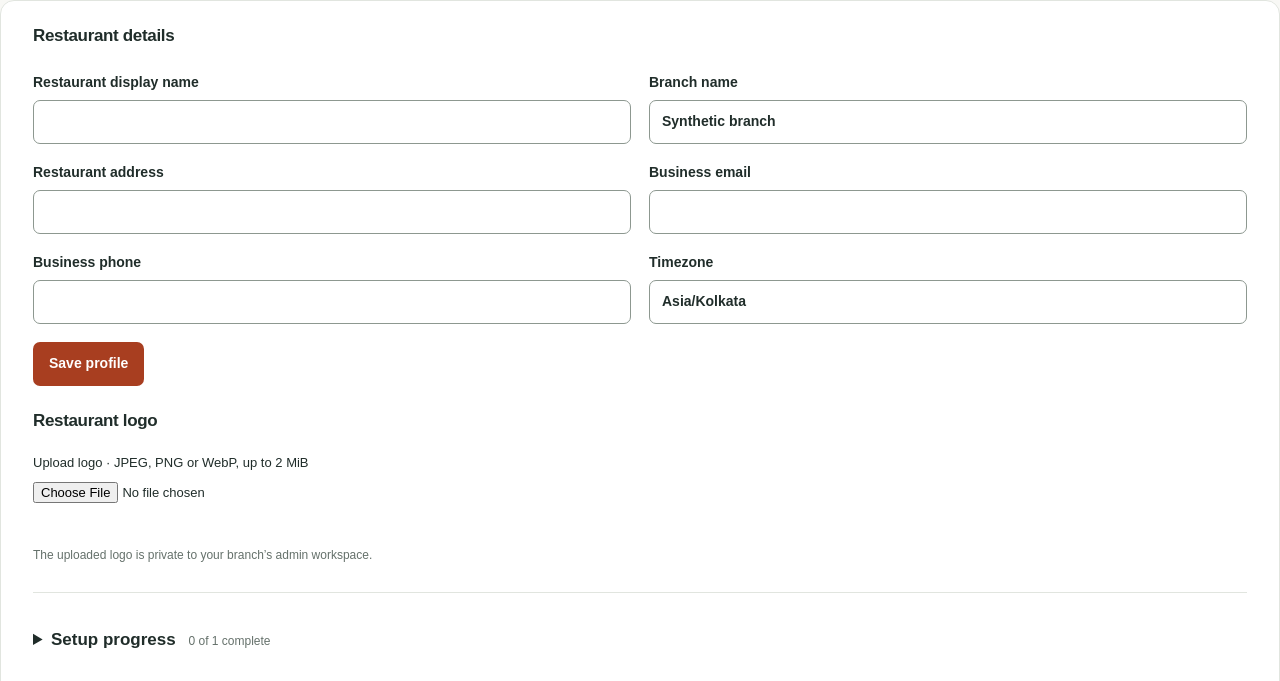
Scenario: profile save includes selected scope, version and CSRF and displays success only after API completion
Type "Operator restaurant" into the field labelled "Restaurant display name" at coordinates (332, 122), box [33, 100, 631, 144]
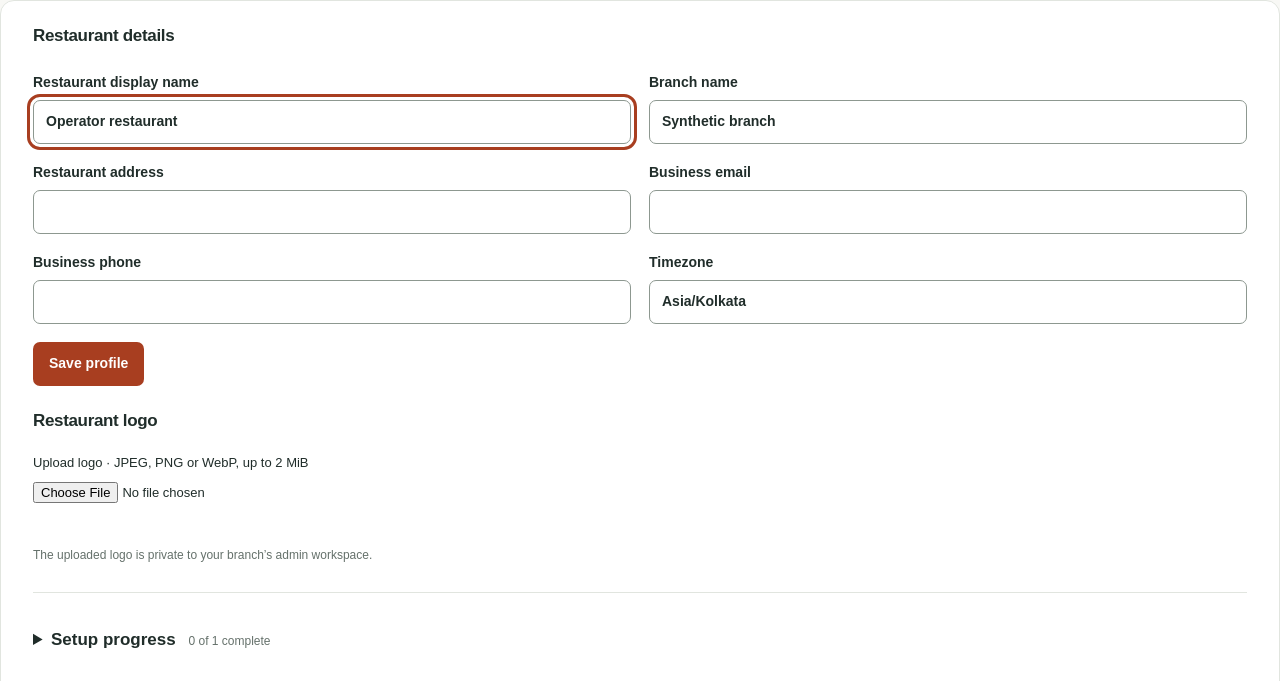
Click the button "Save profile" at coordinates (89, 364), box [33, 342, 144, 386]
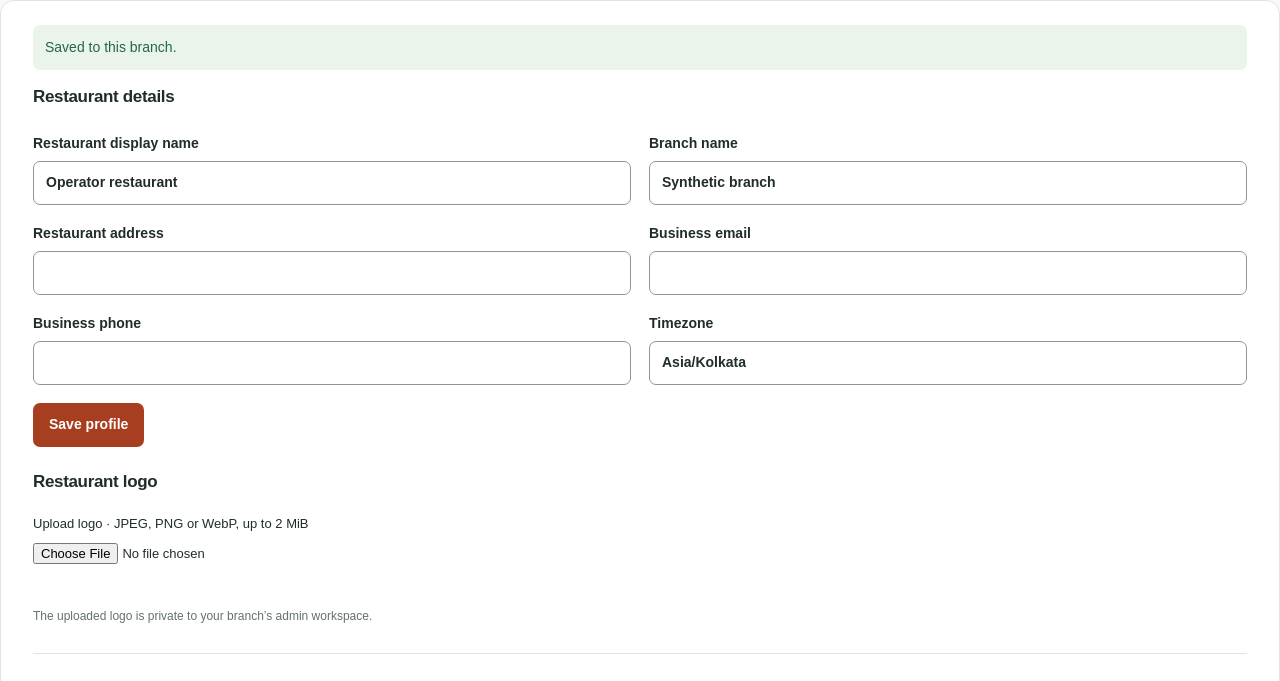
Now the message "Saved to this branch." is shown, box [33, 25, 1247, 70]
